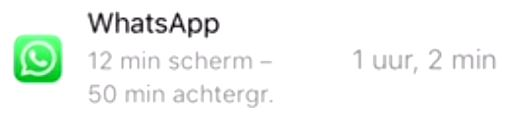name: (83, 9, 227, 40)
time: (85, 45, 167, 76), (87, 81, 169, 109)
